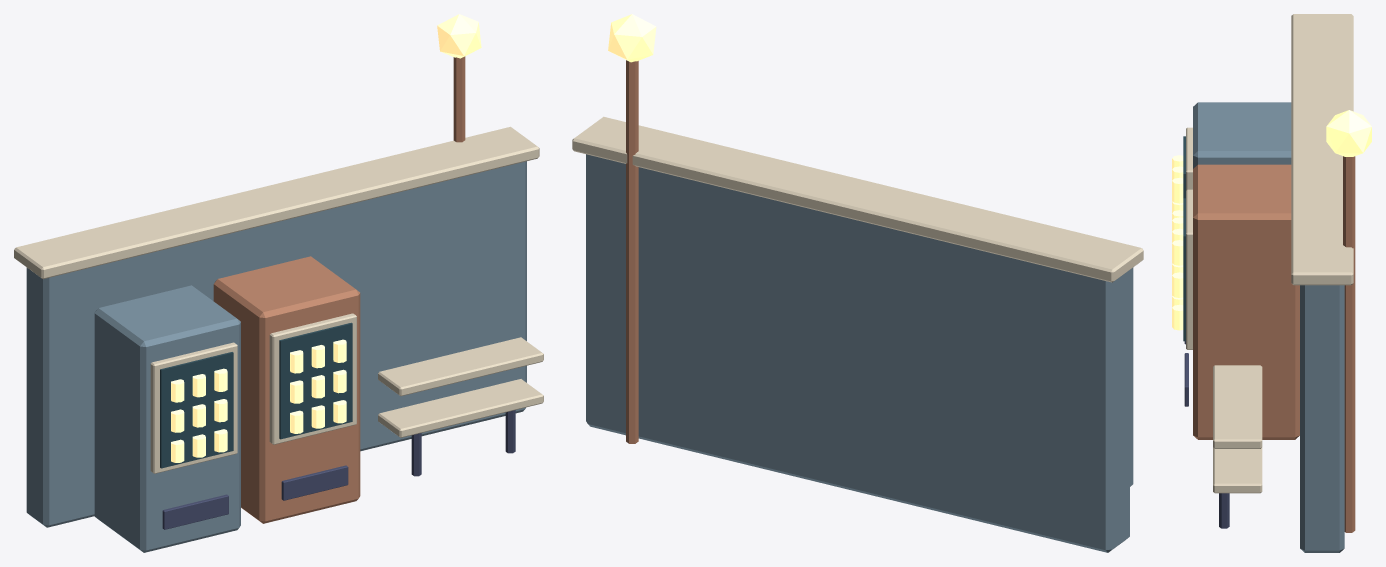
Rendered from sf3_vending_alley_7m.glb.
3 renders of one model, left to right at view 1: azimuth 30°, elevation 25°; view 2: azimuth 150°, elevation 25°; view 3: azimuth 270°, elevation 25°, orthographic. The views are drawn at different scales.
Visible parts, largest first — view 1: sf3_vending_alley_7m__sf3-dusty-blue, sf3_vending_alley_7m__sf3-warm-ivory, sf3_vending_alley_7m__sf3-burnished-copper, sf3_vending_alley_7m__sf3-deep-glass, sf3_vending_alley_7m__sf3-warm-window, sf3_vending_alley_7m__sf3-midnight-indigo; view 2: sf3_vending_alley_7m__sf3-dusty-blue, sf3_vending_alley_7m__sf3-warm-ivory, sf3_vending_alley_7m__sf3-burnished-copper, sf3_vending_alley_7m__sf3-warm-window; view 3: sf3_vending_alley_7m__sf3-burnished-copper, sf3_vending_alley_7m__sf3-warm-ivory, sf3_vending_alley_7m__sf3-dusty-blue, sf3_vending_alley_7m__sf3-warm-window, sf3_vending_alley_7m__sf3-midnight-indigo, sf3_vending_alley_7m__sf3-deep-glass.
Part boxes in pixels (<box>): sf3_vending_alley_7m__sf3-dusty-blue: <box>26,161,526,552</box>; sf3_vending_alley_7m__sf3-warm-ivory: <box>14,126,543,473</box>; sf3_vending_alley_7m__sf3-burnished-copper: <box>213,56,465,523</box>; sf3_vending_alley_7m__sf3-deep-glass: <box>160,322,352,468</box>; sf3_vending_alley_7m__sf3-warm-window: <box>171,14,481,462</box>; sf3_vending_alley_7m__sf3-midnight-indigo: <box>162,410,515,529</box>; sf3_vending_alley_7m__sf3-dusty-blue: <box>586,154,1133,552</box>; sf3_vending_alley_7m__sf3-warm-ivory: <box>572,116,1143,282</box>; sf3_vending_alley_7m__sf3-burnished-copper: <box>626,60,638,443</box>; sf3_vending_alley_7m__sf3-warm-window: <box>608,14,656,62</box>; sf3_vending_alley_7m__sf3-burnished-copper: <box>1193,156,1355,532</box>; sf3_vending_alley_7m__sf3-warm-ivory: <box>1186,14,1353,493</box>; sf3_vending_alley_7m__sf3-dusty-blue: <box>1193,102,1344,552</box>; sf3_vending_alley_7m__sf3-warm-window: <box>1172,110,1371,330</box>; sf3_vending_alley_7m__sf3-midnight-indigo: <box>1184,341,1229,528</box>; sf3_vending_alley_7m__sf3-deep-glass: <box>1183,136,1185,341</box>.
Bounding box in the file's own units: 6.9 × 5.2 × 2.24.
